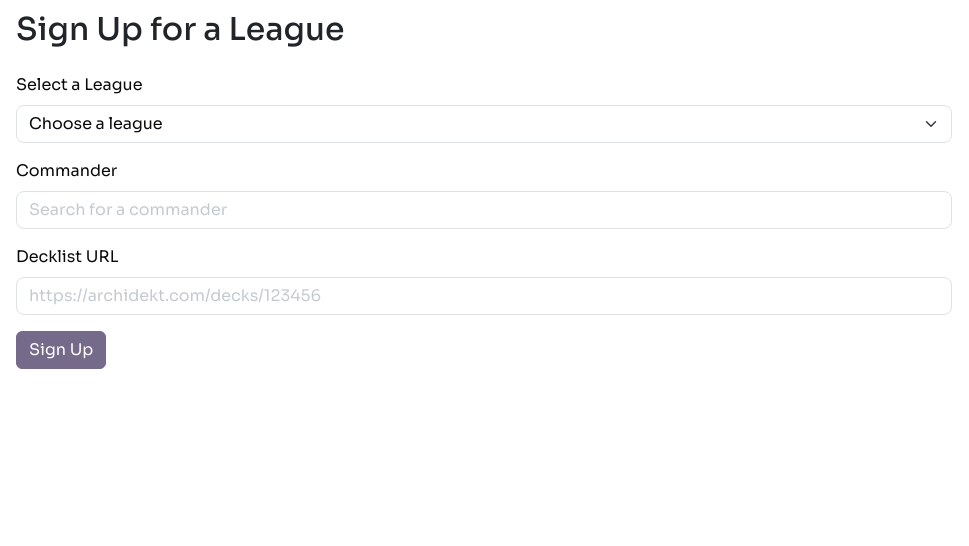
Test: SignUp › Form submission › should display error message on signup failure
Select "Summer League 2024" in the dropdown labelled "Select a League" at (484, 124), box [16, 105, 952, 143]
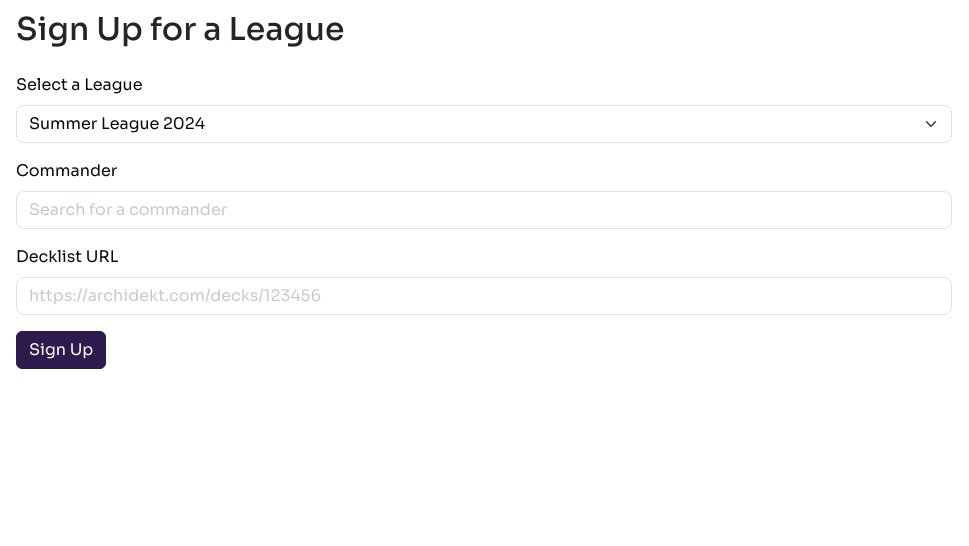
Type "Kenrith" into the field labelled "Commander".
click(484, 210); type("Kenrith")  # box [16, 191, 952, 229]
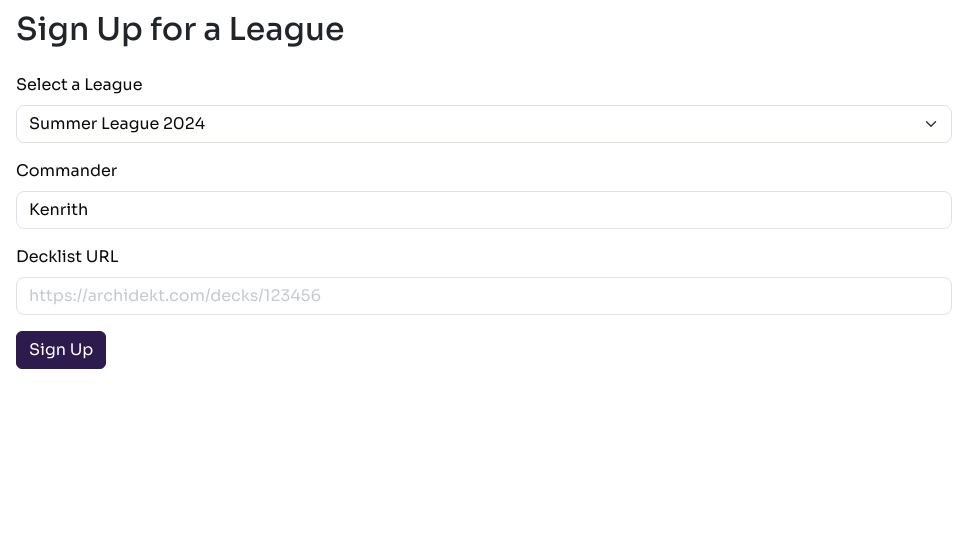
Type "https://archidekt.com/decks/123" into the field labelled "Decklist URL".
click(484, 296); type("https://archidekt.com/decks/123")  # box [16, 277, 952, 315]
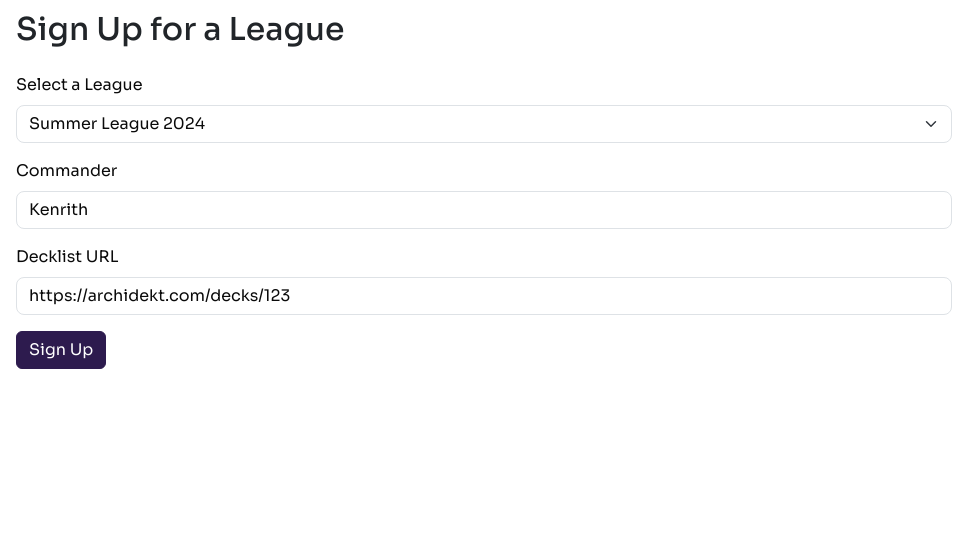
Submit the form from the button "Sign Up", box [16, 331, 106, 369]
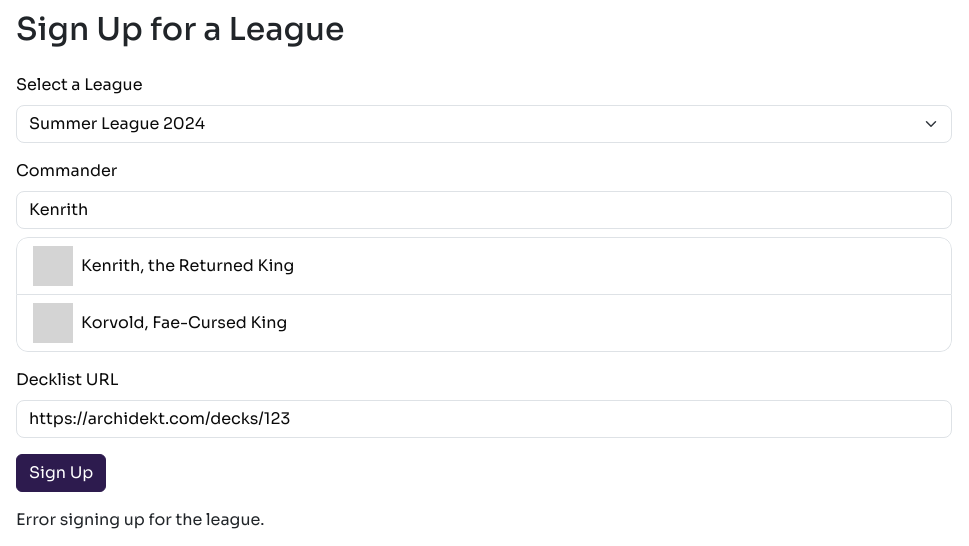
Expected: the text "Error signing up for the league." is shown, [16, 509, 264, 530]
